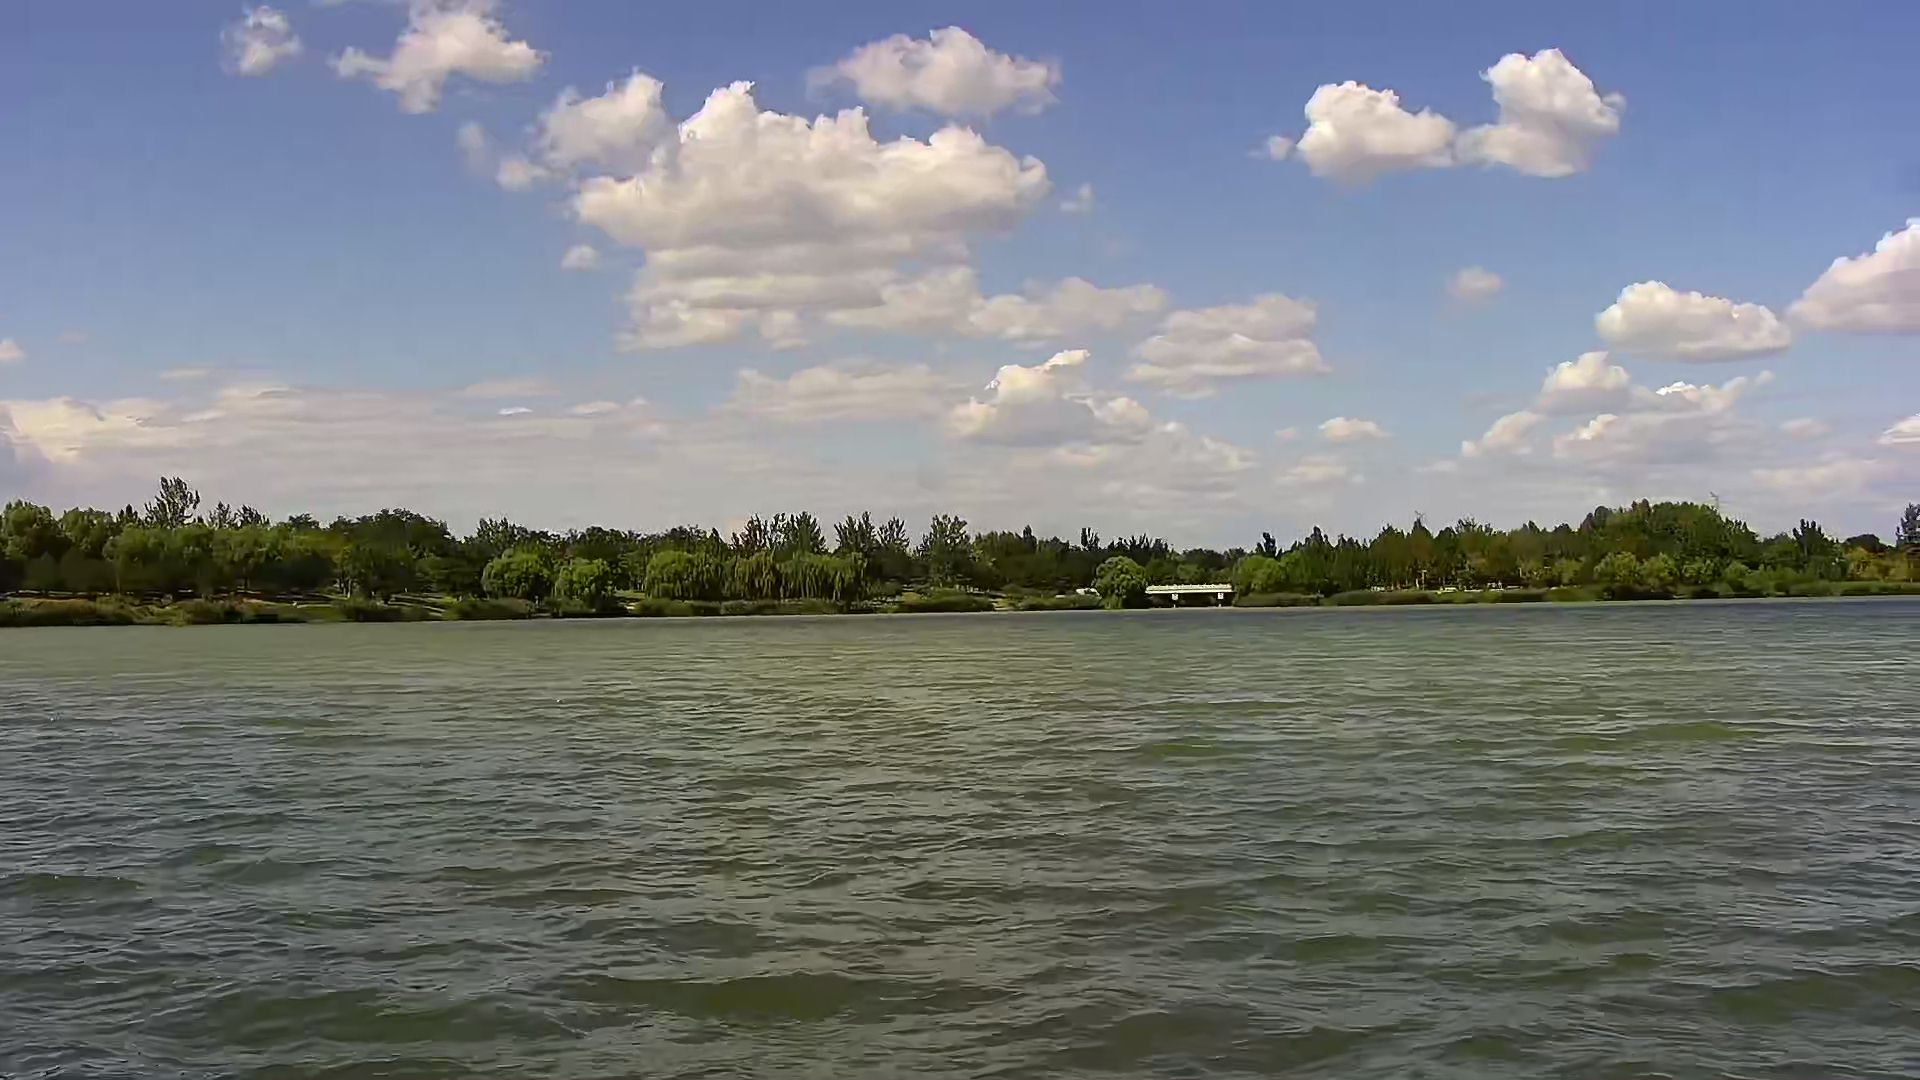bridge: (1146, 582, 1237, 611)
